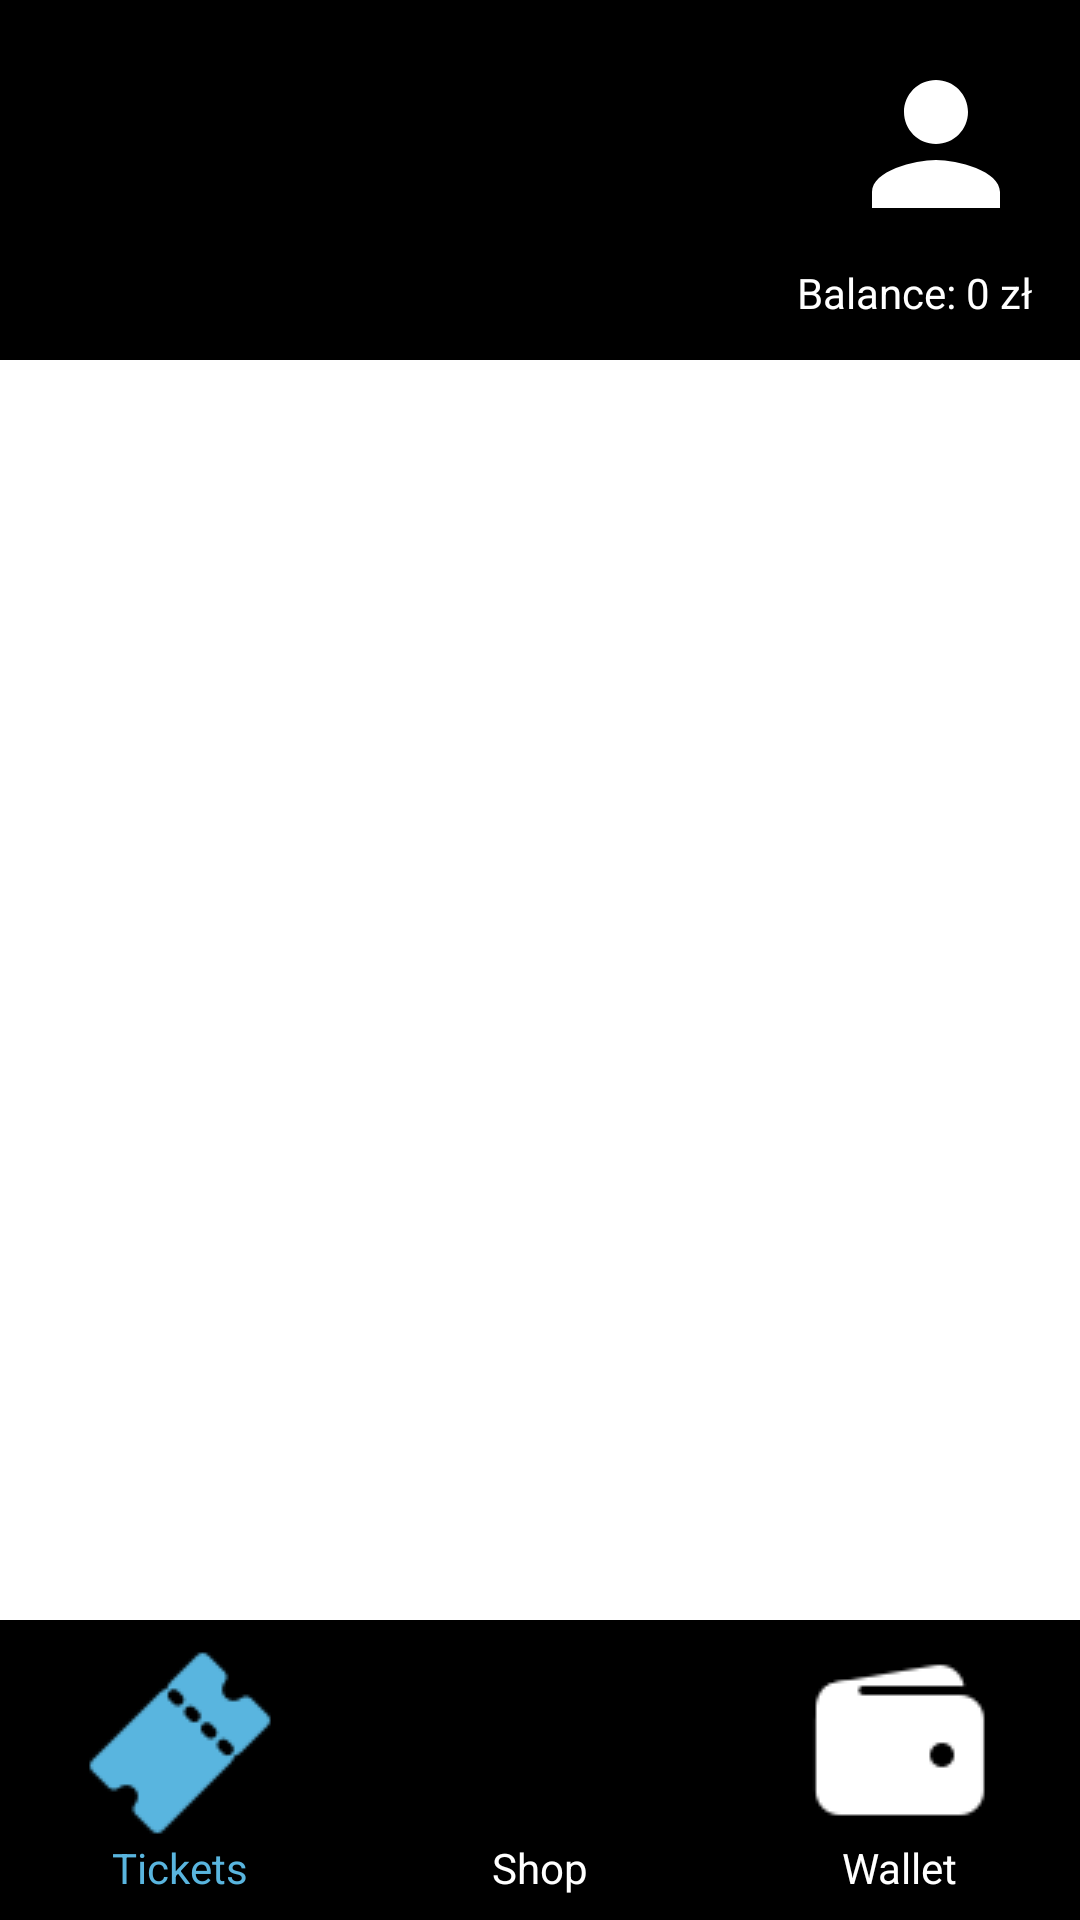

Icon bounding boxes for this 1080w x 1920h phone screenshot, format [x1,y1,x2,y2]:
person: [872,80,1000,208]
